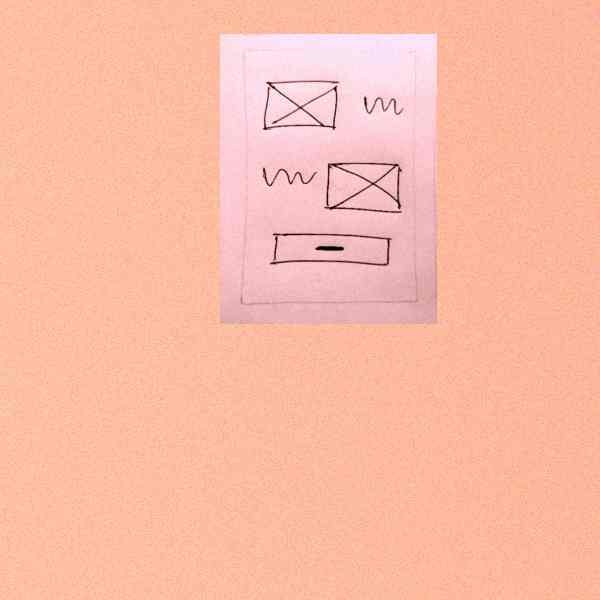button: (268, 229, 393, 271)
image: (261, 77, 339, 137), (323, 159, 405, 216)
text: (259, 163, 319, 196), (358, 92, 408, 121)
